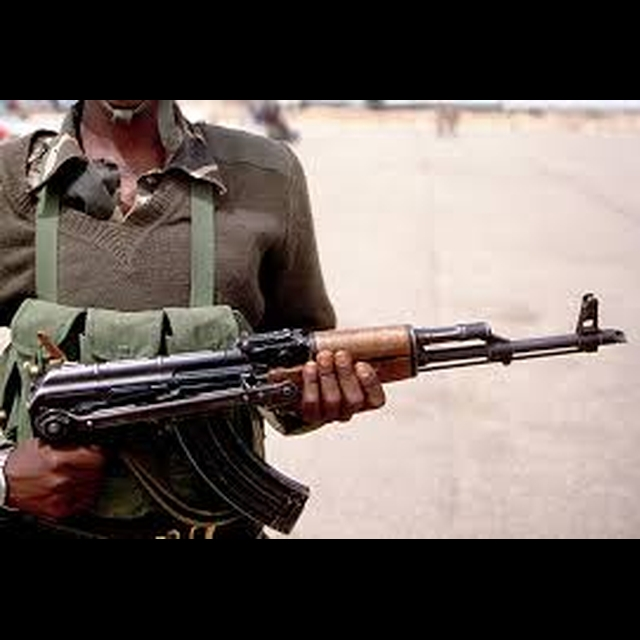AK47: (51, 276, 640, 535)
